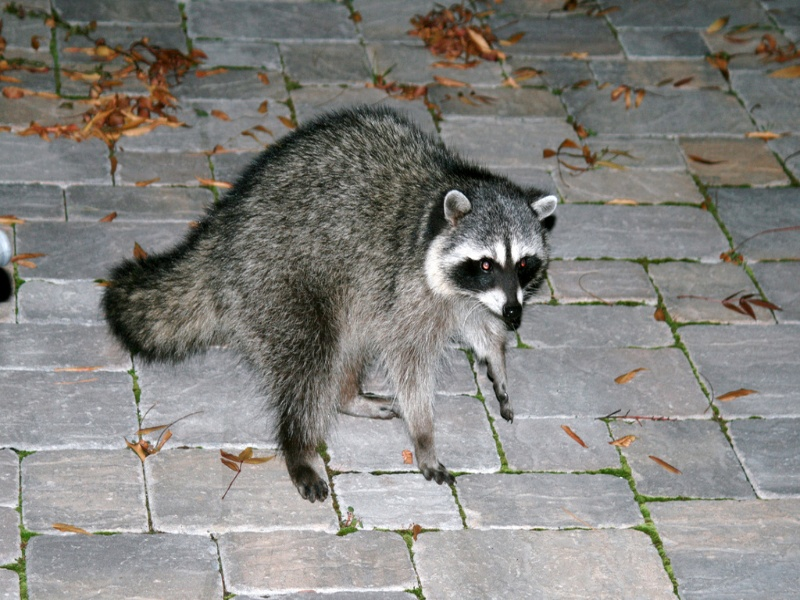raccoon: (99, 101, 561, 505)
